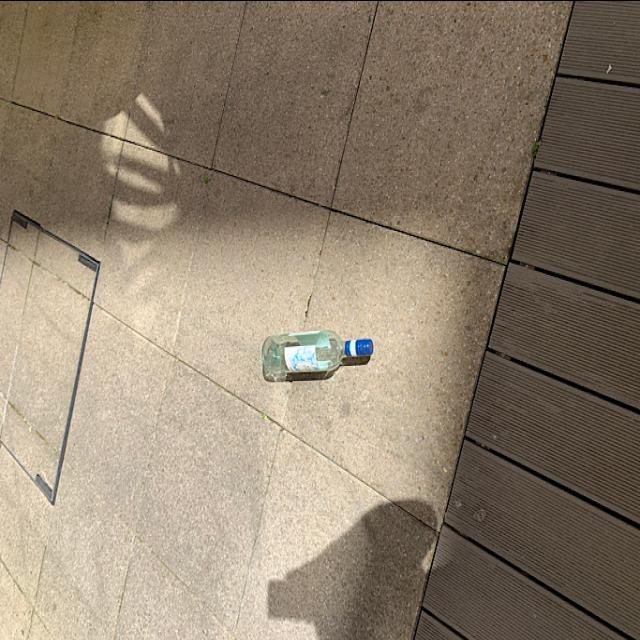litter: (256, 322, 380, 382)
